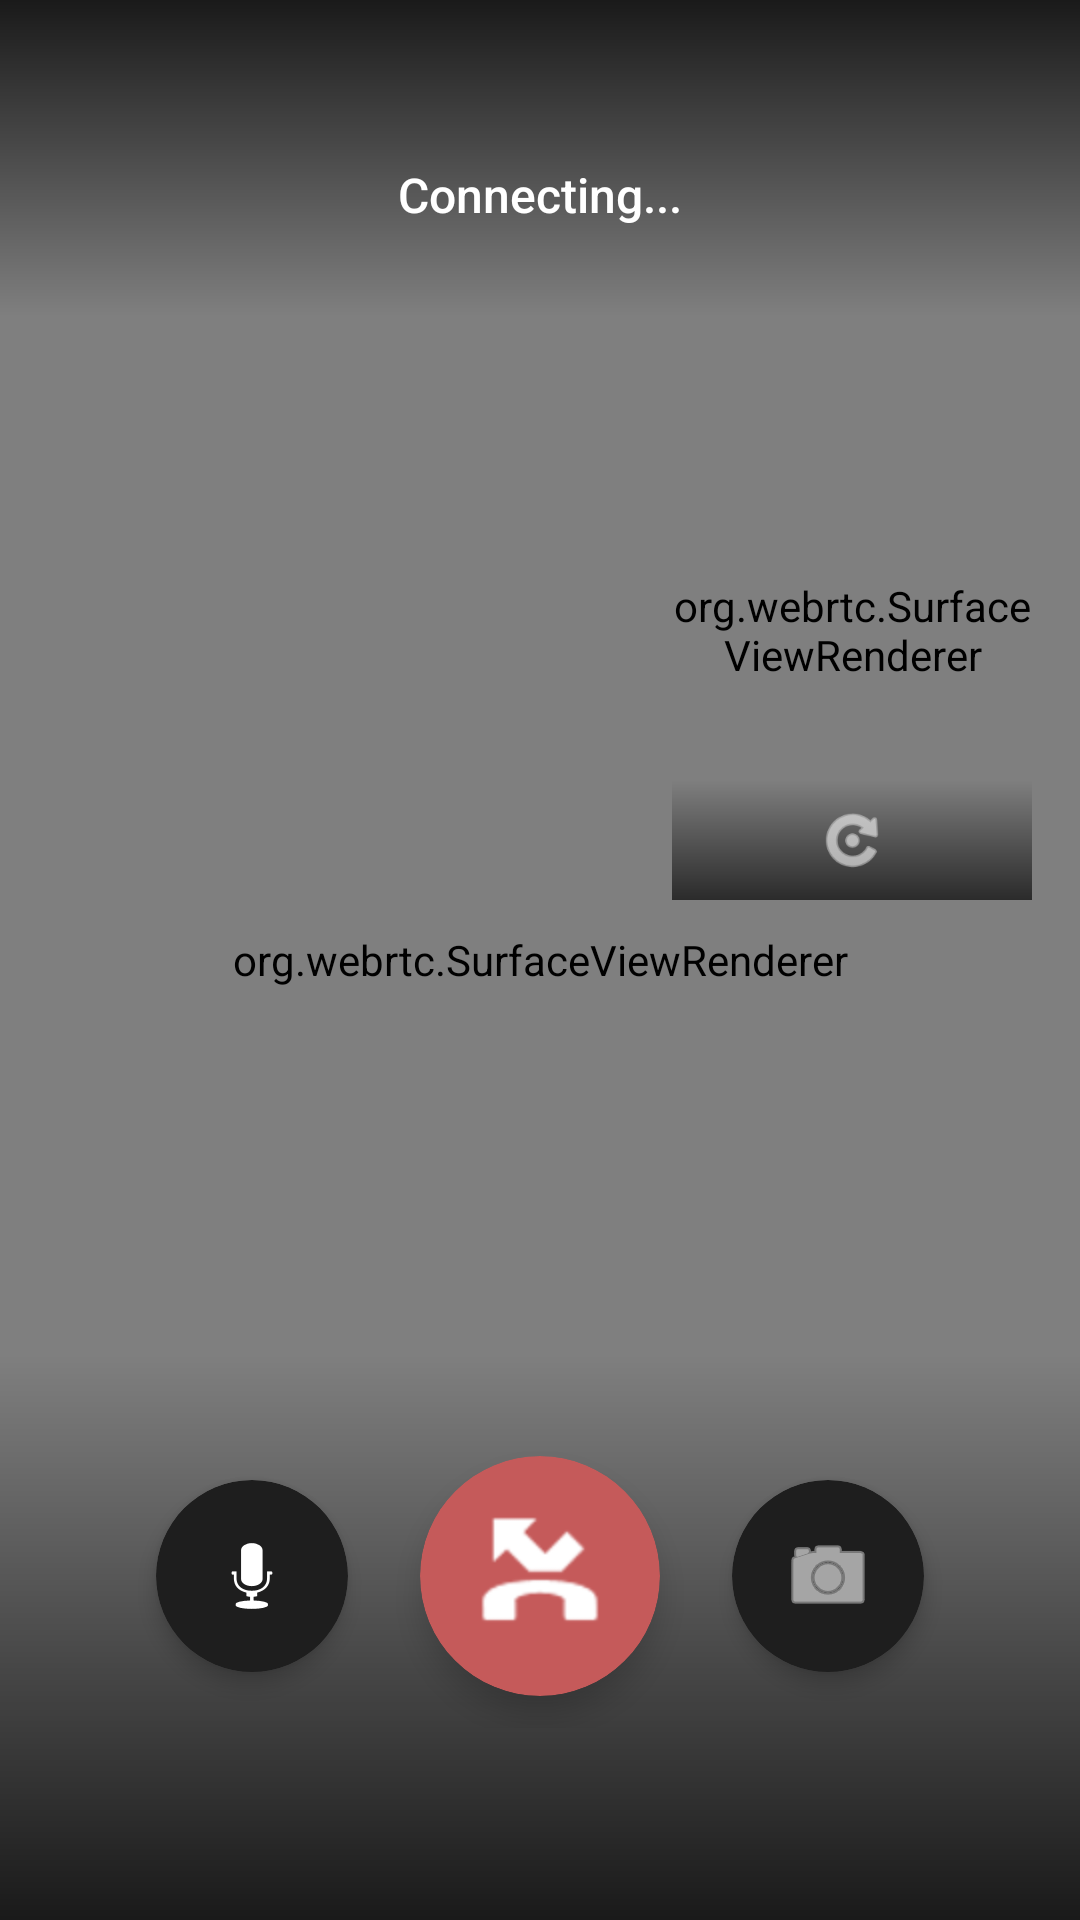

Point at icon controls on the screen. Image size 1080*1920, points as (x,y).
End Call: (540,1569)
Mute/Unmute: (252,1576)
Switch Camera: (852,840)
Turn Video On/Off: (828,1574)
